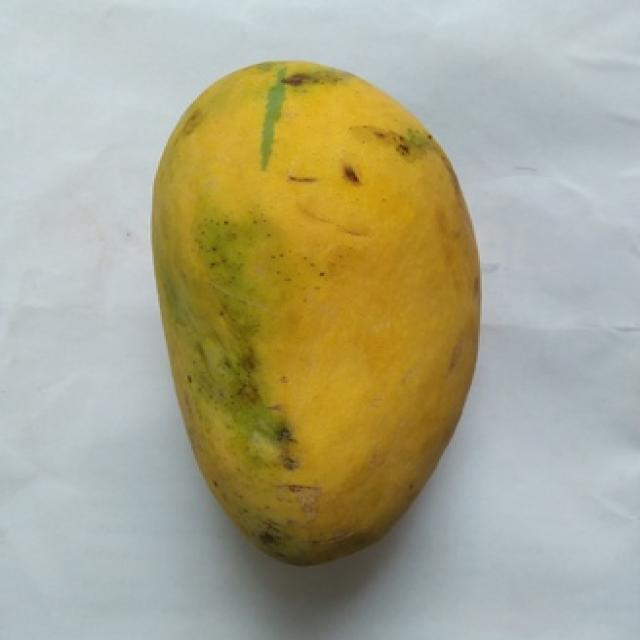Mango: (152, 62, 476, 562)
